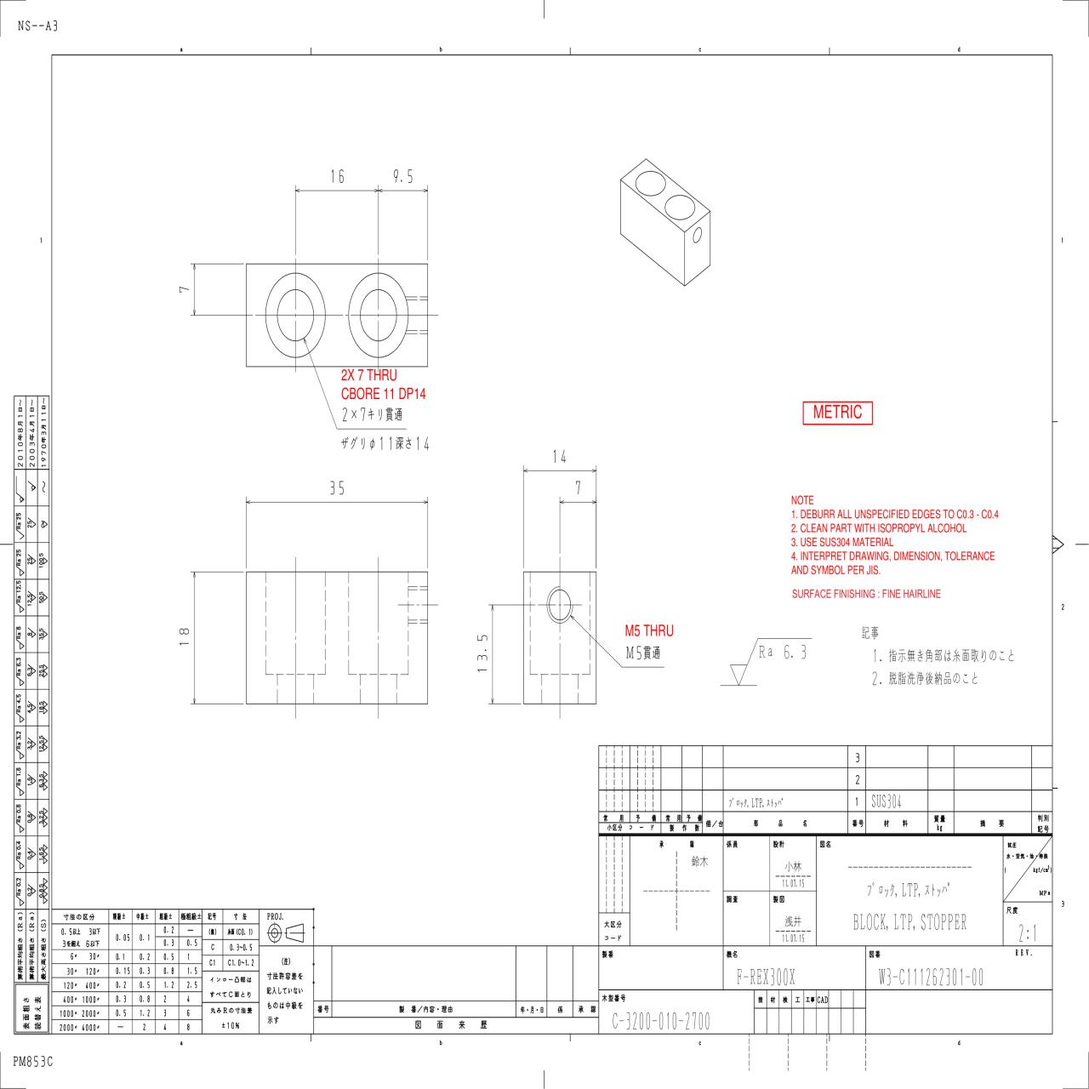basic_dimension: (476, 634, 488, 673), (393, 169, 413, 184), (331, 168, 345, 185), (330, 480, 344, 496), (178, 628, 189, 647), (553, 449, 566, 463), (179, 286, 190, 293), (576, 480, 581, 495)
dimension_diameter_symbol: (368, 437, 393, 453)
dimension_metric_symbol: (626, 644, 642, 660)
surface_finish_symbol: (730, 638, 812, 687)
